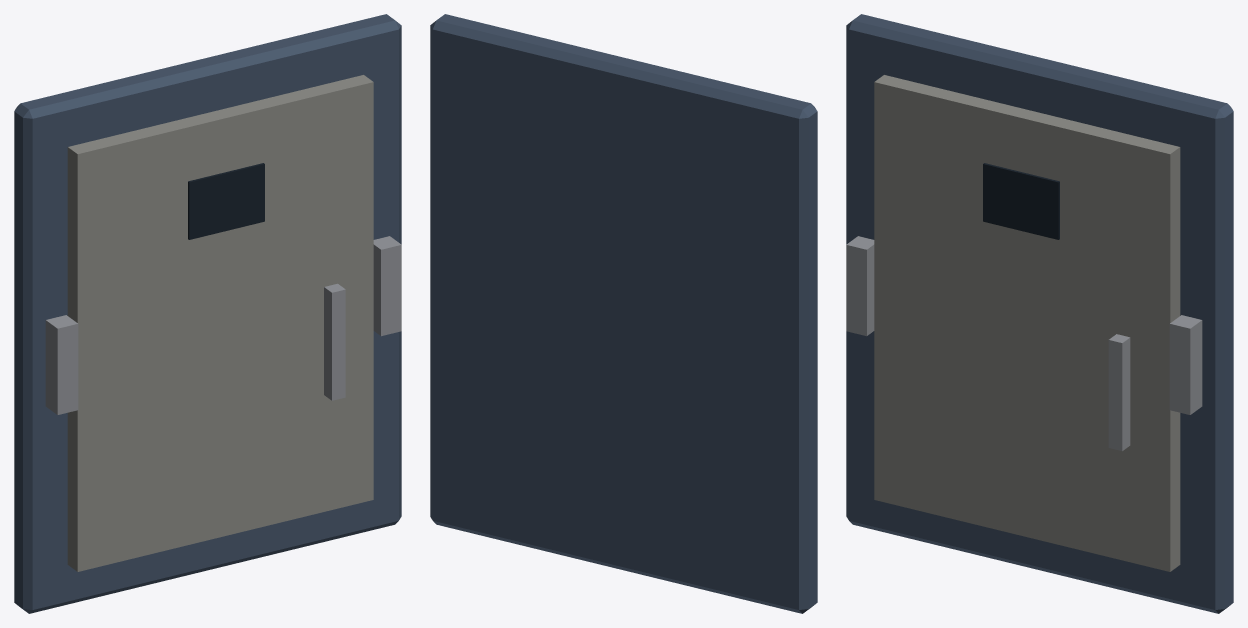
The model's file is kz6_hatch.obj.
3 renders of one model, left to right at view 1: azimuth 30°, elevation 25°; view 2: azimuth 150°, elevation 25°; view 3: azimuth 330°, elevation 25°, orthographic.
Visible parts, largest first — view 1: kz6_hatch; view 2: kz6_hatch; view 3: kz6_hatch.
Boxes of the visible parts, box(x1,y1,x2,y2) form: kz6_hatch: box(14, 14, 401, 613); kz6_hatch: box(430, 14, 817, 613); kz6_hatch: box(846, 14, 1233, 613).
Bounding box in the file's own units: 1.1 × 1.4 × 0.18.
